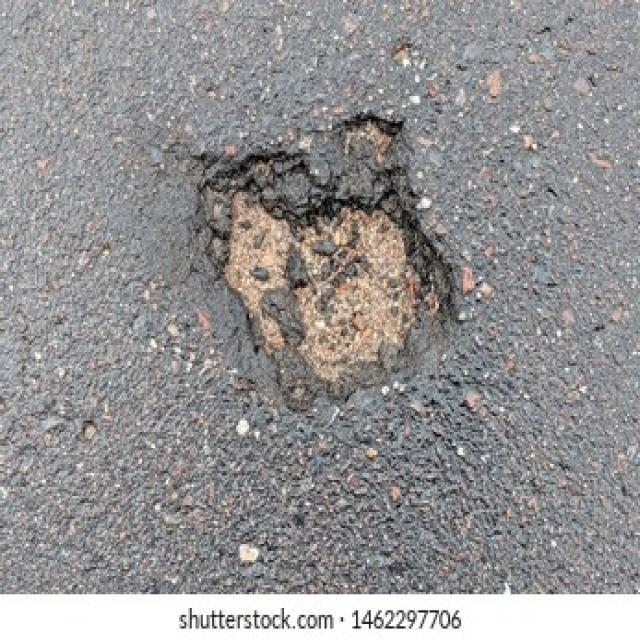Pothole: (190, 112, 460, 414)
